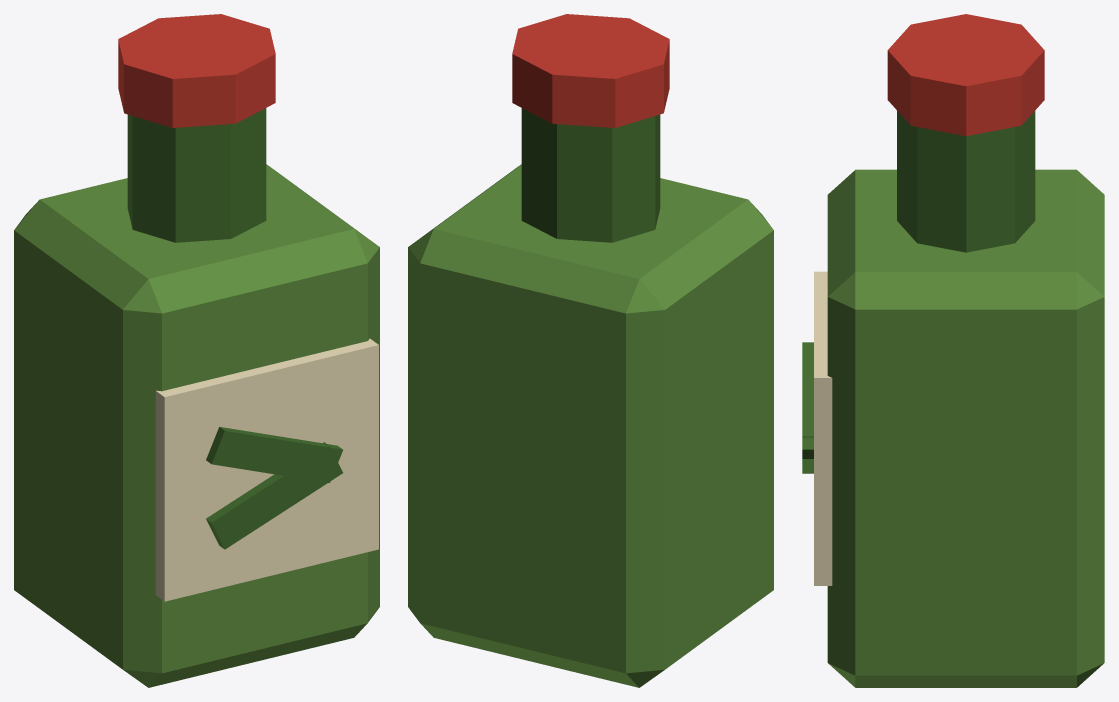
Rendered from SnakeOil.fbx.
The picture shows the model from 3 angles, left to right: view 1: azimuth 30°, elevation 25°; view 2: azimuth 150°, elevation 25°; view 3: azimuth 270°, elevation 25°; orthographic projection.
Visible parts, largest first — view 1: SnakeOil; view 2: SnakeOil; view 3: SnakeOil.
Boxes of the visible parts, <box> form: SnakeOil: <box>14,14,379,687</box>; SnakeOil: <box>408,14,773,687</box>; SnakeOil: <box>802,14,1104,687</box>.
Size of the model in its own units: 0.7 by 1.5 by 0.7.
